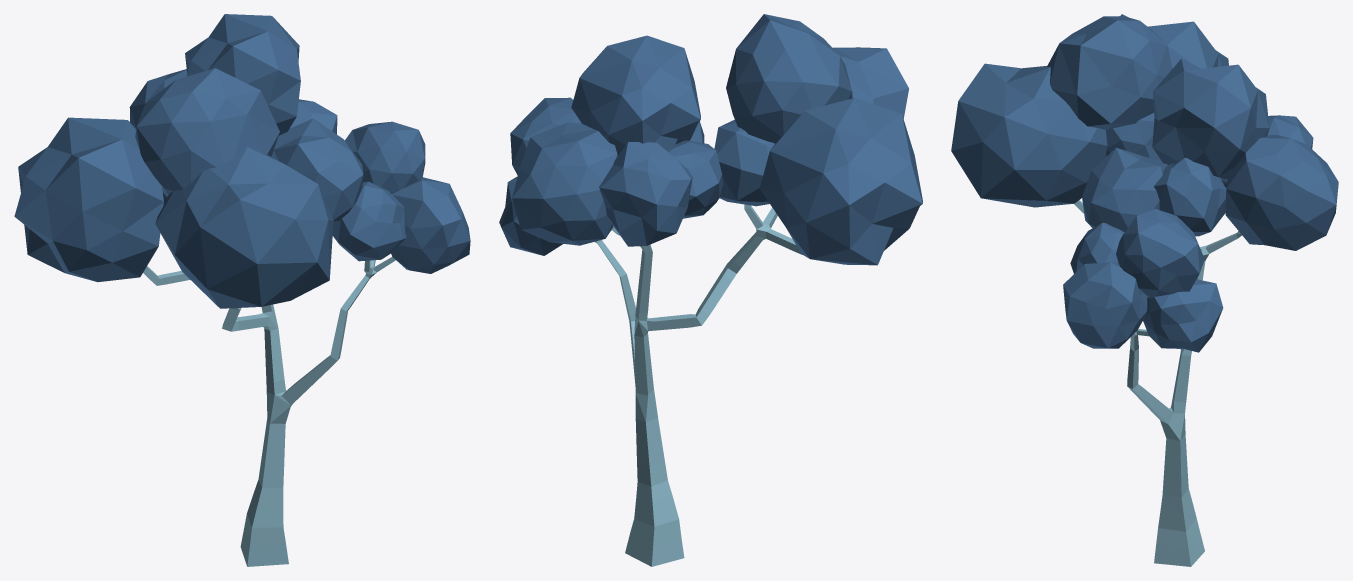
File: oaktree3.fbx
The picture shows the model from 3 angles, left to right: view 1: azimuth 30°, elevation 25°; view 2: azimuth 150°, elevation 25°; view 3: azimuth 270°, elevation 25°; orthographic projection. The views are drawn at different scales.
Visible parts, largest first — view 1: Icosphere.028, Icosphere.027, Icosphere.030, oak_tree3, Icosphere.032, Icosphere.019, Icosphere.023, Icosphere.031, Icosphere.021, Icosphere.024, Icosphere.022; view 2: Icosphere.027, oak_tree3, Icosphere.032, Icosphere.030, Icosphere.025, Icosphere.024, Icosphere.029, Icosphere.028, Icosphere.026, Icosphere.031, Icosphere.020; view 3: Icosphere.028, Icosphere.030, Icosphere.032, Icosphere.025, oak_tree3, Icosphere.019, Icosphere.031, Icosphere.023, Icosphere.020, Icosphere.022, Icosphere.027, Icosphere.021 (+2 smaller).
Boxes of the visible parts, x1,y1,x2,y2 form: Icosphere.028: (155, 147, 333, 308); Icosphere.027: (14, 117, 163, 282); Icosphere.030: (135, 68, 279, 196); oak_tree3: (143, 257, 395, 566); Icosphere.032: (185, 14, 300, 135); Icosphere.019: (390, 177, 470, 273); Icosphere.023: (271, 118, 363, 222); Icosphere.031: (345, 121, 425, 193); Icosphere.021: (332, 181, 406, 261); Icosphere.024: (129, 69, 187, 128); Icosphere.022: (290, 99, 337, 134); Icosphere.027: (759, 98, 922, 265); oak_tree3: (594, 204, 802, 566); Icosphere.032: (571, 35, 700, 155); Icosphere.030: (726, 14, 852, 143); Icosphere.025: (512, 122, 617, 245); Icosphere.024: (599, 142, 692, 246); Icosphere.029: (714, 119, 774, 206); Icosphere.028: (832, 47, 908, 118); Icosphere.026: (668, 140, 723, 218); Icosphere.031: (510, 97, 581, 175); Icosphere.020: (499, 176, 563, 255); Icosphere.028: (951, 63, 1107, 207); Icosphere.030: (1047, 16, 1172, 129); Icosphere.032: (1152, 58, 1269, 178); Icosphere.025: (1225, 134, 1338, 250); oak_tree3: (1074, 200, 1241, 566); Icosphere.019: (1063, 262, 1147, 348); Icosphere.031: (1116, 209, 1204, 298); Icosphere.023: (1082, 147, 1167, 231); Icosphere.020: (1143, 279, 1223, 352); Icosphere.022: (1153, 157, 1226, 236); Icosphere.027: (1120, 14, 1228, 68); Icosphere.021: (1070, 222, 1124, 273).
Bounding box in the file's own units: 923 × 1121 × 787.
